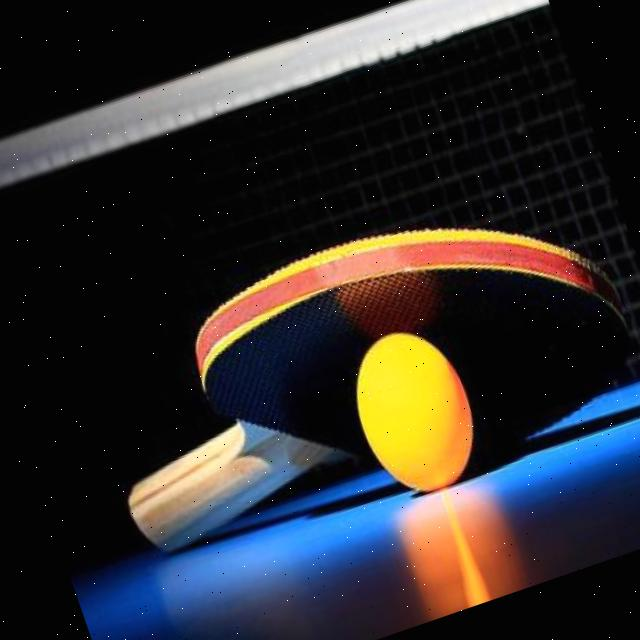ping-pong-ball: (336, 317, 497, 512)
